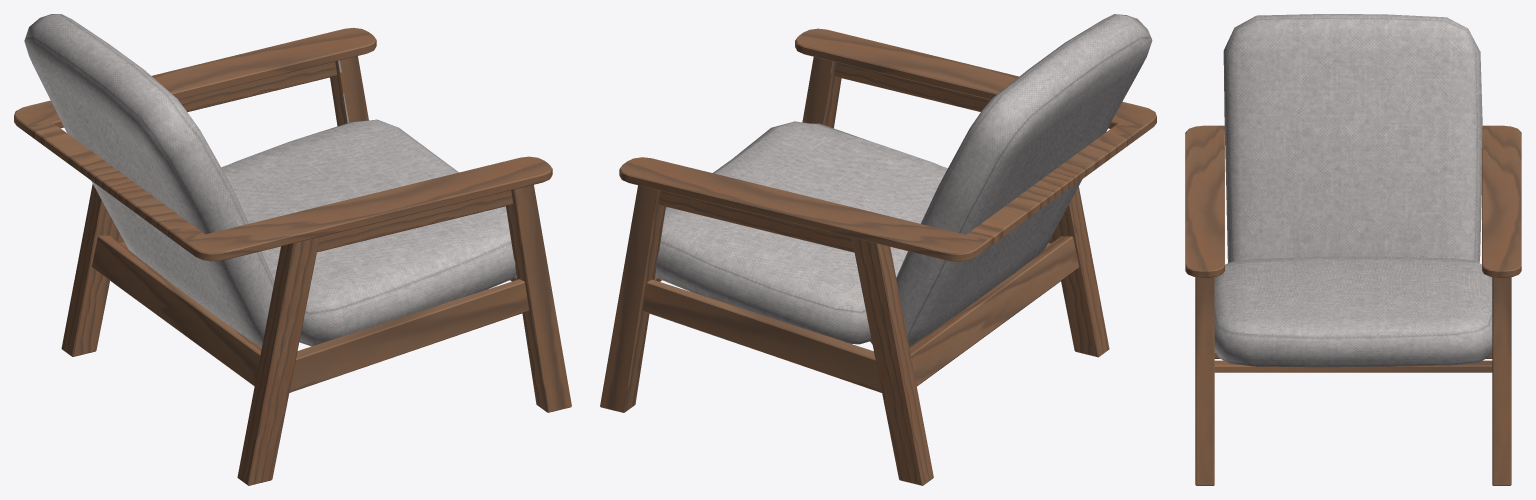
The model's file is chair4.obj.
3 renders of one model, left to right at view 1: azimuth 30°, elevation 25°; view 2: azimuth 150°, elevation 25°; view 3: azimuth 270°, elevation 25°, orthographic. The views are drawn at different scales.
Visible parts, largest first — view 1: Cube.011; view 2: Cube.011; view 3: Cube.011.
Part boxes in pixels (left/top/right/bottom): Cube.011: left=14, top=14, right=571, bottom=485; Cube.011: left=600, top=14, right=1156, bottom=485; Cube.011: left=1185, top=14, right=1521, bottom=485.
Bounding box in the file's own units: 0.9124 × 0.8318 × 0.7986.
